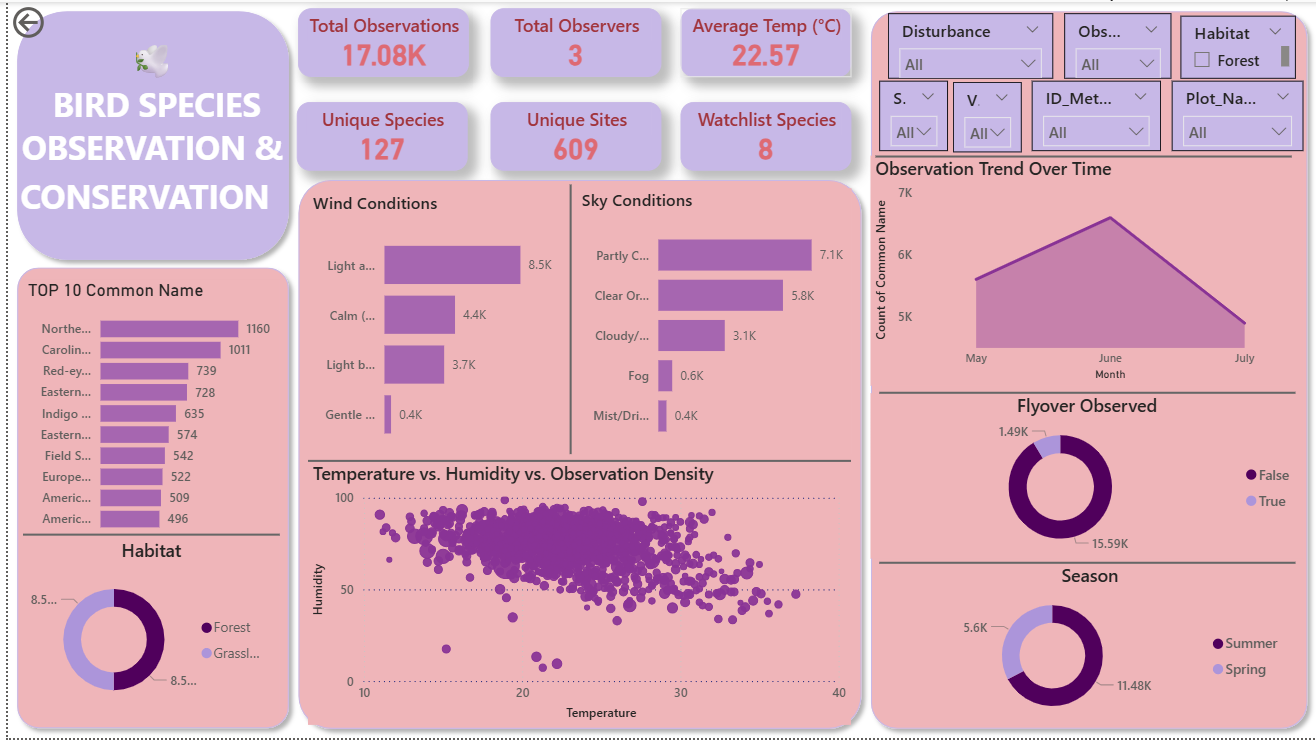

The page's visual inventory and layout, read from the dashboard file:
{"tool":"powerbi","page":{"name":"Page 1","canvas":[1280,720],"ordinal":0},"visuals":[{"type":"card","title":"Total Observations","fields":{"Values":["cleaned_bird_observation_data.common_name"]},"box":[283.8,6.2,167.5,67.5],"z":0},{"type":"shape","box":[0,0,283.8,261.2],"z":1000},{"type":"textbox","box":[7.5,30,267.5,231.2],"z":2000},{"type":"card","title":"Unique Species","fields":{"Values":["cleaned_bird_observation_data.scientific_name"]},"box":[282.8,97.5,167,67.5],"z":3000},{"type":"card","title":"Total Observers","fields":{"Values":["cleaned_bird_observation_data.Observer"]},"box":[472.5,6.2,167.5,67.5],"z":4000},{"type":"card","title":"Unique Sites","fields":{"Values":["cleaned_bird_observation_data.Plot_Name"]},"box":[472.5,97.5,167.5,67.5],"z":5000},{"type":"card","title":"Average Temp (°C)","fields":{"Values":["cleaned_bird_observation_data.Temperature"]},"box":[657.5,6.2,167.5,67.5],"z":6000},{"type":"card","title":"Watchlist Species","fields":{"Values":["cleaned_bird_observation_data.WatchlistSpecies"]},"box":[657.5,97.5,167.5,67.5],"z":7000},{"type":"shape","box":[0,251.2,283.8,468.8],"z":8000},{"type":"barChart","title":"TOP 10 Common Name","fields":{"Category":["cleaned_bird_observation_data.common_name"],"Y":["cleaned_bird_observation_data.common_name"]},"box":[15,271.2,251.2,256.2],"z":9000},{"type":"shape","box":[835,0,445,720],"z":10000},{"type":"donutChart","title":"Habitat","fields":{"Y":["cleaned_bird_observation_data.common_name"],"Category":["cleaned_bird_observation_data.Habitat"]},"box":[15,525,251.2,176.2],"z":11000},{"type":"areaChart","title":"Observation Trend Over Time","fields":{"Y":["cleaned_bird_observation_data.common_name"],"Category":["cleaned_bird_observation_data.Date.Variation.Date Hierarchy.Month"]},"box":[843.8,150,423.8,225],"z":12000},{"type":"donutChart","title":"Season","fields":{"Y":["cleaned_bird_observation_data.common_name"],"Category":["cleaned_bird_observation_data.Season"]},"box":[861.2,548.8,395,158.8],"z":13000},{"type":"shape","box":[275,165,568.8,555],"z":14000},{"type":"shape","box":[15,515,251.2,12.5],"z":15000},{"type":"scatterChart","title":"Temperature vs. Humidity vs. Observation Density","fields":{"X":["cleaned_bird_observation_data.Temperature"],"Y":["cleaned_bird_observation_data.Humidity"],"Size":["cleaned_bird_observation_data.common_name"]},"box":[293.8,448.8,531.2,258.8],"z":16000},{"type":"shape","box":[543.8,178.8,12.5,263.8],"z":17000},{"type":"donutChart","title":"Flyover Observed","fields":{"Y":["cleaned_bird_observation_data.common_name"],"Category":["cleaned_bird_observation_data.flyover_observed"]},"box":[843.8,382.5,423.8,161.2],"z":18000},{"type":"shape","box":[852.5,541.2,407.5,13.8],"z":20000},{"type":"barChart","title":"Wind Conditions","fields":{"Category":["cleaned_bird_observation_data.Wind"],"Y":["cleaned_bird_observation_data.Wind"]},"box":[293.8,185,247.5,263.8],"z":21000},{"type":"barChart","title":"Sky Conditions","fields":{"Category":["cleaned_bird_observation_data.Sky"],"Y":["cleaned_bird_observation_data.Sky"]},"box":[556.2,182.5,268.8,260],"z":22000},{"type":"shape","box":[293.8,442.5,531.2,12.5],"z":23000},{"type":"actionButton","box":[0,0,100,40],"z":25000},{"type":"slicer","fields":{"Values":["cleaned_bird_observation_data.Habitat"]},"box":[1147.5,13.8,112.5,61.2],"z":26000},{"type":"slicer","fields":{"Values":["cleaned_bird_observation_data.Observer"]},"box":[1033.8,11.2,105,63.8],"z":27000},{"type":"slicer","fields":{"Values":["cleaned_bird_observation_data.ID_Method"]},"box":[1001.2,77.5,126.2,68.8],"z":28000},{"type":"slicer","fields":{"Values":["cleaned_bird_observation_data.Sex"]},"box":[852.5,77.5,67.5,68.8],"z":28001},{"type":"shape","box":[852.5,375,407.5,13.8],"z":28002},{"type":"shape","box":[848.8,143.8,407.5,13.8],"z":28003},{"type":"slicer","fields":{"Values":["cleaned_bird_observation_data.Plot_Name"]},"box":[1138.8,77.5,128.8,68.8],"z":28004},{"type":"slicer","fields":{"Values":["cleaned_bird_observation_data.Visit"]},"box":[925,78.8,67.5,68.8],"z":28005},{"type":"slicer","fields":{"Values":["cleaned_bird_observation_data.Disturbance"]},"box":[861.2,11.2,161.2,63.8],"z":28006}]}

Visuals, with their boxes in screenshot pixels (x1, y1, x2, y2), scaled from the page's 1280x720 canvas onto the 1316x740 screenshot:
"Total Observations" card: (292, 6, 464, 76)
shape: (0, 0, 292, 268)
textbox: (8, 31, 283, 268)
"Unique Species" card: (291, 100, 462, 170)
"Total Observers" card: (486, 6, 658, 76)
"Unique Sites" card: (486, 100, 658, 170)
"Average Temp (°C)" card: (676, 6, 848, 76)
"Watchlist Species" card: (676, 100, 848, 170)
shape: (0, 258, 292, 739)
"TOP 10 Common Name" barChart: (15, 279, 274, 542)
shape: (858, 0, 1315, 739)
"Habitat" donutChart: (15, 540, 274, 721)
"Observation Trend Over Time" areaChart: (868, 154, 1303, 385)
"Season" donutChart: (885, 564, 1292, 727)
shape: (283, 170, 868, 739)
shape: (15, 529, 274, 542)
"Temperature vs. Humidity vs. Observation Density" scatterChart: (302, 461, 848, 727)
shape: (559, 184, 572, 455)
"Flyover Observed" donutChart: (868, 393, 1303, 559)
shape: (876, 556, 1295, 570)
"Wind Conditions" barChart: (302, 190, 557, 461)
"Sky Conditions" barChart: (572, 188, 848, 455)
shape: (302, 455, 848, 468)
actionButton: (0, 0, 103, 41)
slicer - cleaned_bird_observation_data.Habitat: (1180, 14, 1295, 77)
slicer - cleaned_bird_observation_data.Observer: (1063, 12, 1171, 77)
slicer - cleaned_bird_observation_data.ID_Method: (1029, 80, 1159, 150)
slicer - cleaned_bird_observation_data.Sex: (876, 80, 946, 150)
shape: (876, 385, 1295, 400)
shape: (873, 148, 1292, 162)
slicer - cleaned_bird_observation_data.Plot_Name: (1171, 80, 1303, 150)
slicer - cleaned_bird_observation_data.Visit: (951, 81, 1020, 152)
slicer - cleaned_bird_observation_data.Disturbance: (885, 12, 1051, 77)
